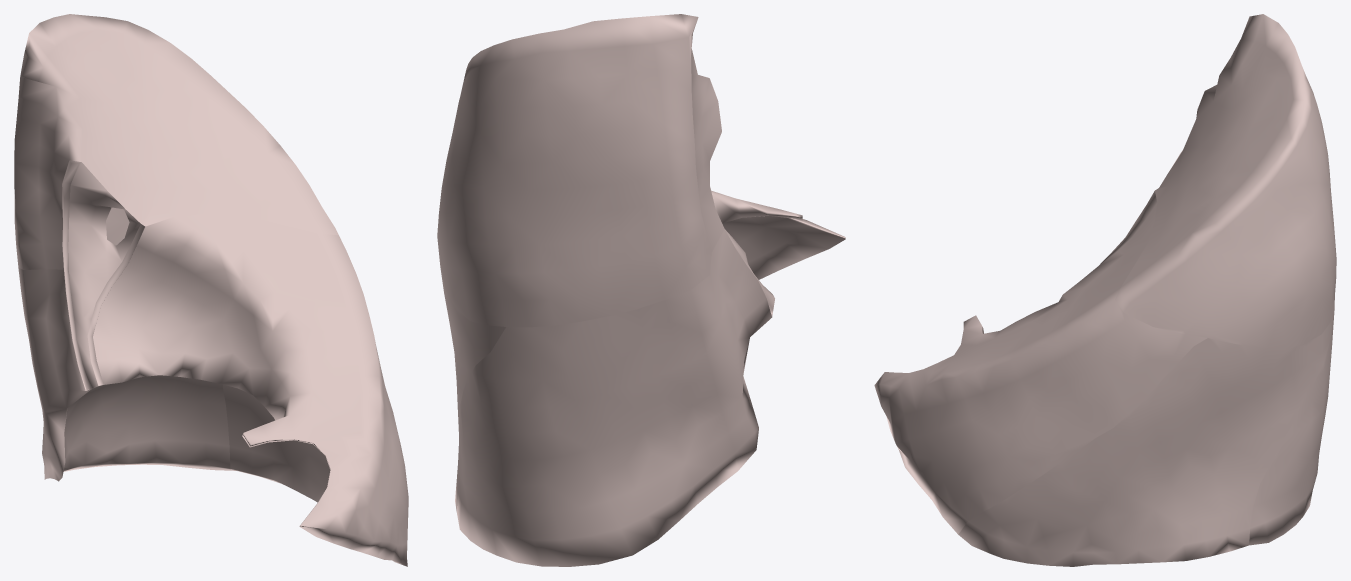
File: lobo_inferior_esquerdo.glb
3 renders of one model, left to right at view 1: azimuth 30°, elevation 25°; view 2: azimuth 150°, elevation 25°; view 3: azimuth 270°, elevation 25°, orthographic. The views are drawn at different scales.
Parts seen in each view (by area): view 1: lobo_inferior_esquerdo; view 2: lobo_inferior_esquerdo; view 3: lobo_inferior_esquerdo.
Part boxes in pixels (box(x1,y1,x2,y2)): lobo_inferior_esquerdo: box(14, 14, 408, 566); lobo_inferior_esquerdo: box(437, 14, 845, 566); lobo_inferior_esquerdo: box(874, 14, 1336, 566).
Bounding box in the file's own units: 0.1131 × 0.1974 × 0.1848.
